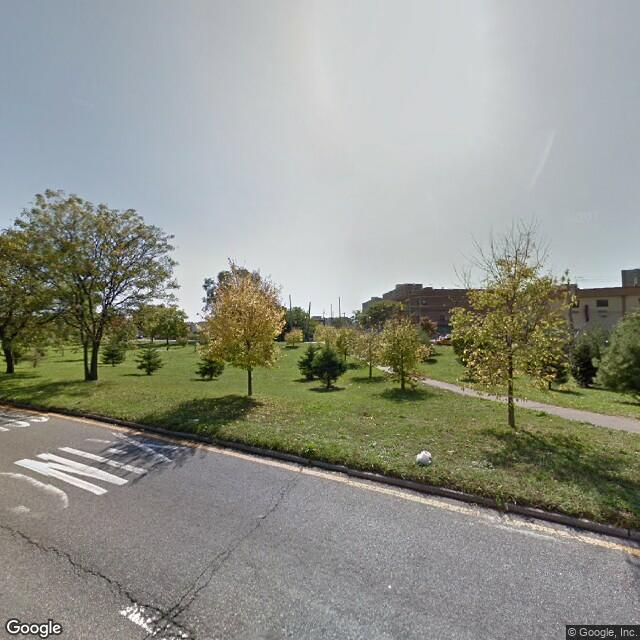litter: (414, 450, 432, 466)
